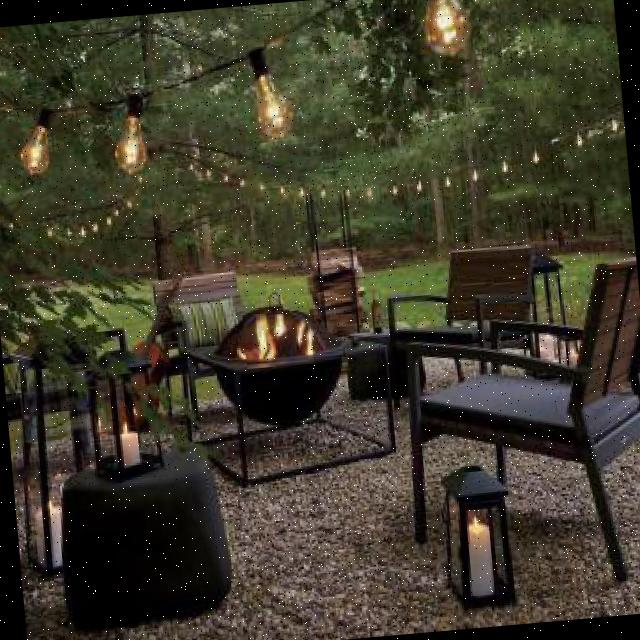fire: (242, 308, 314, 368)
